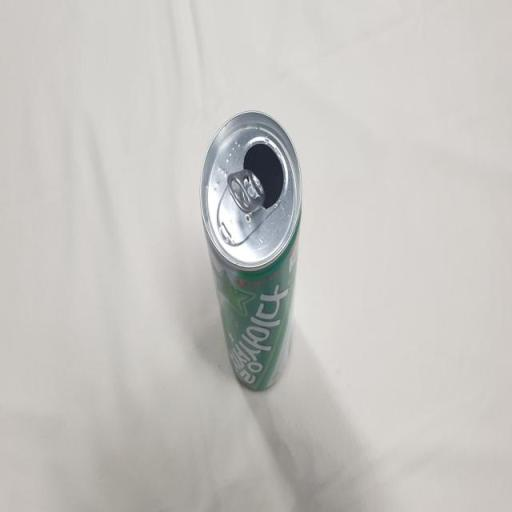metal: (191, 90, 309, 412)
